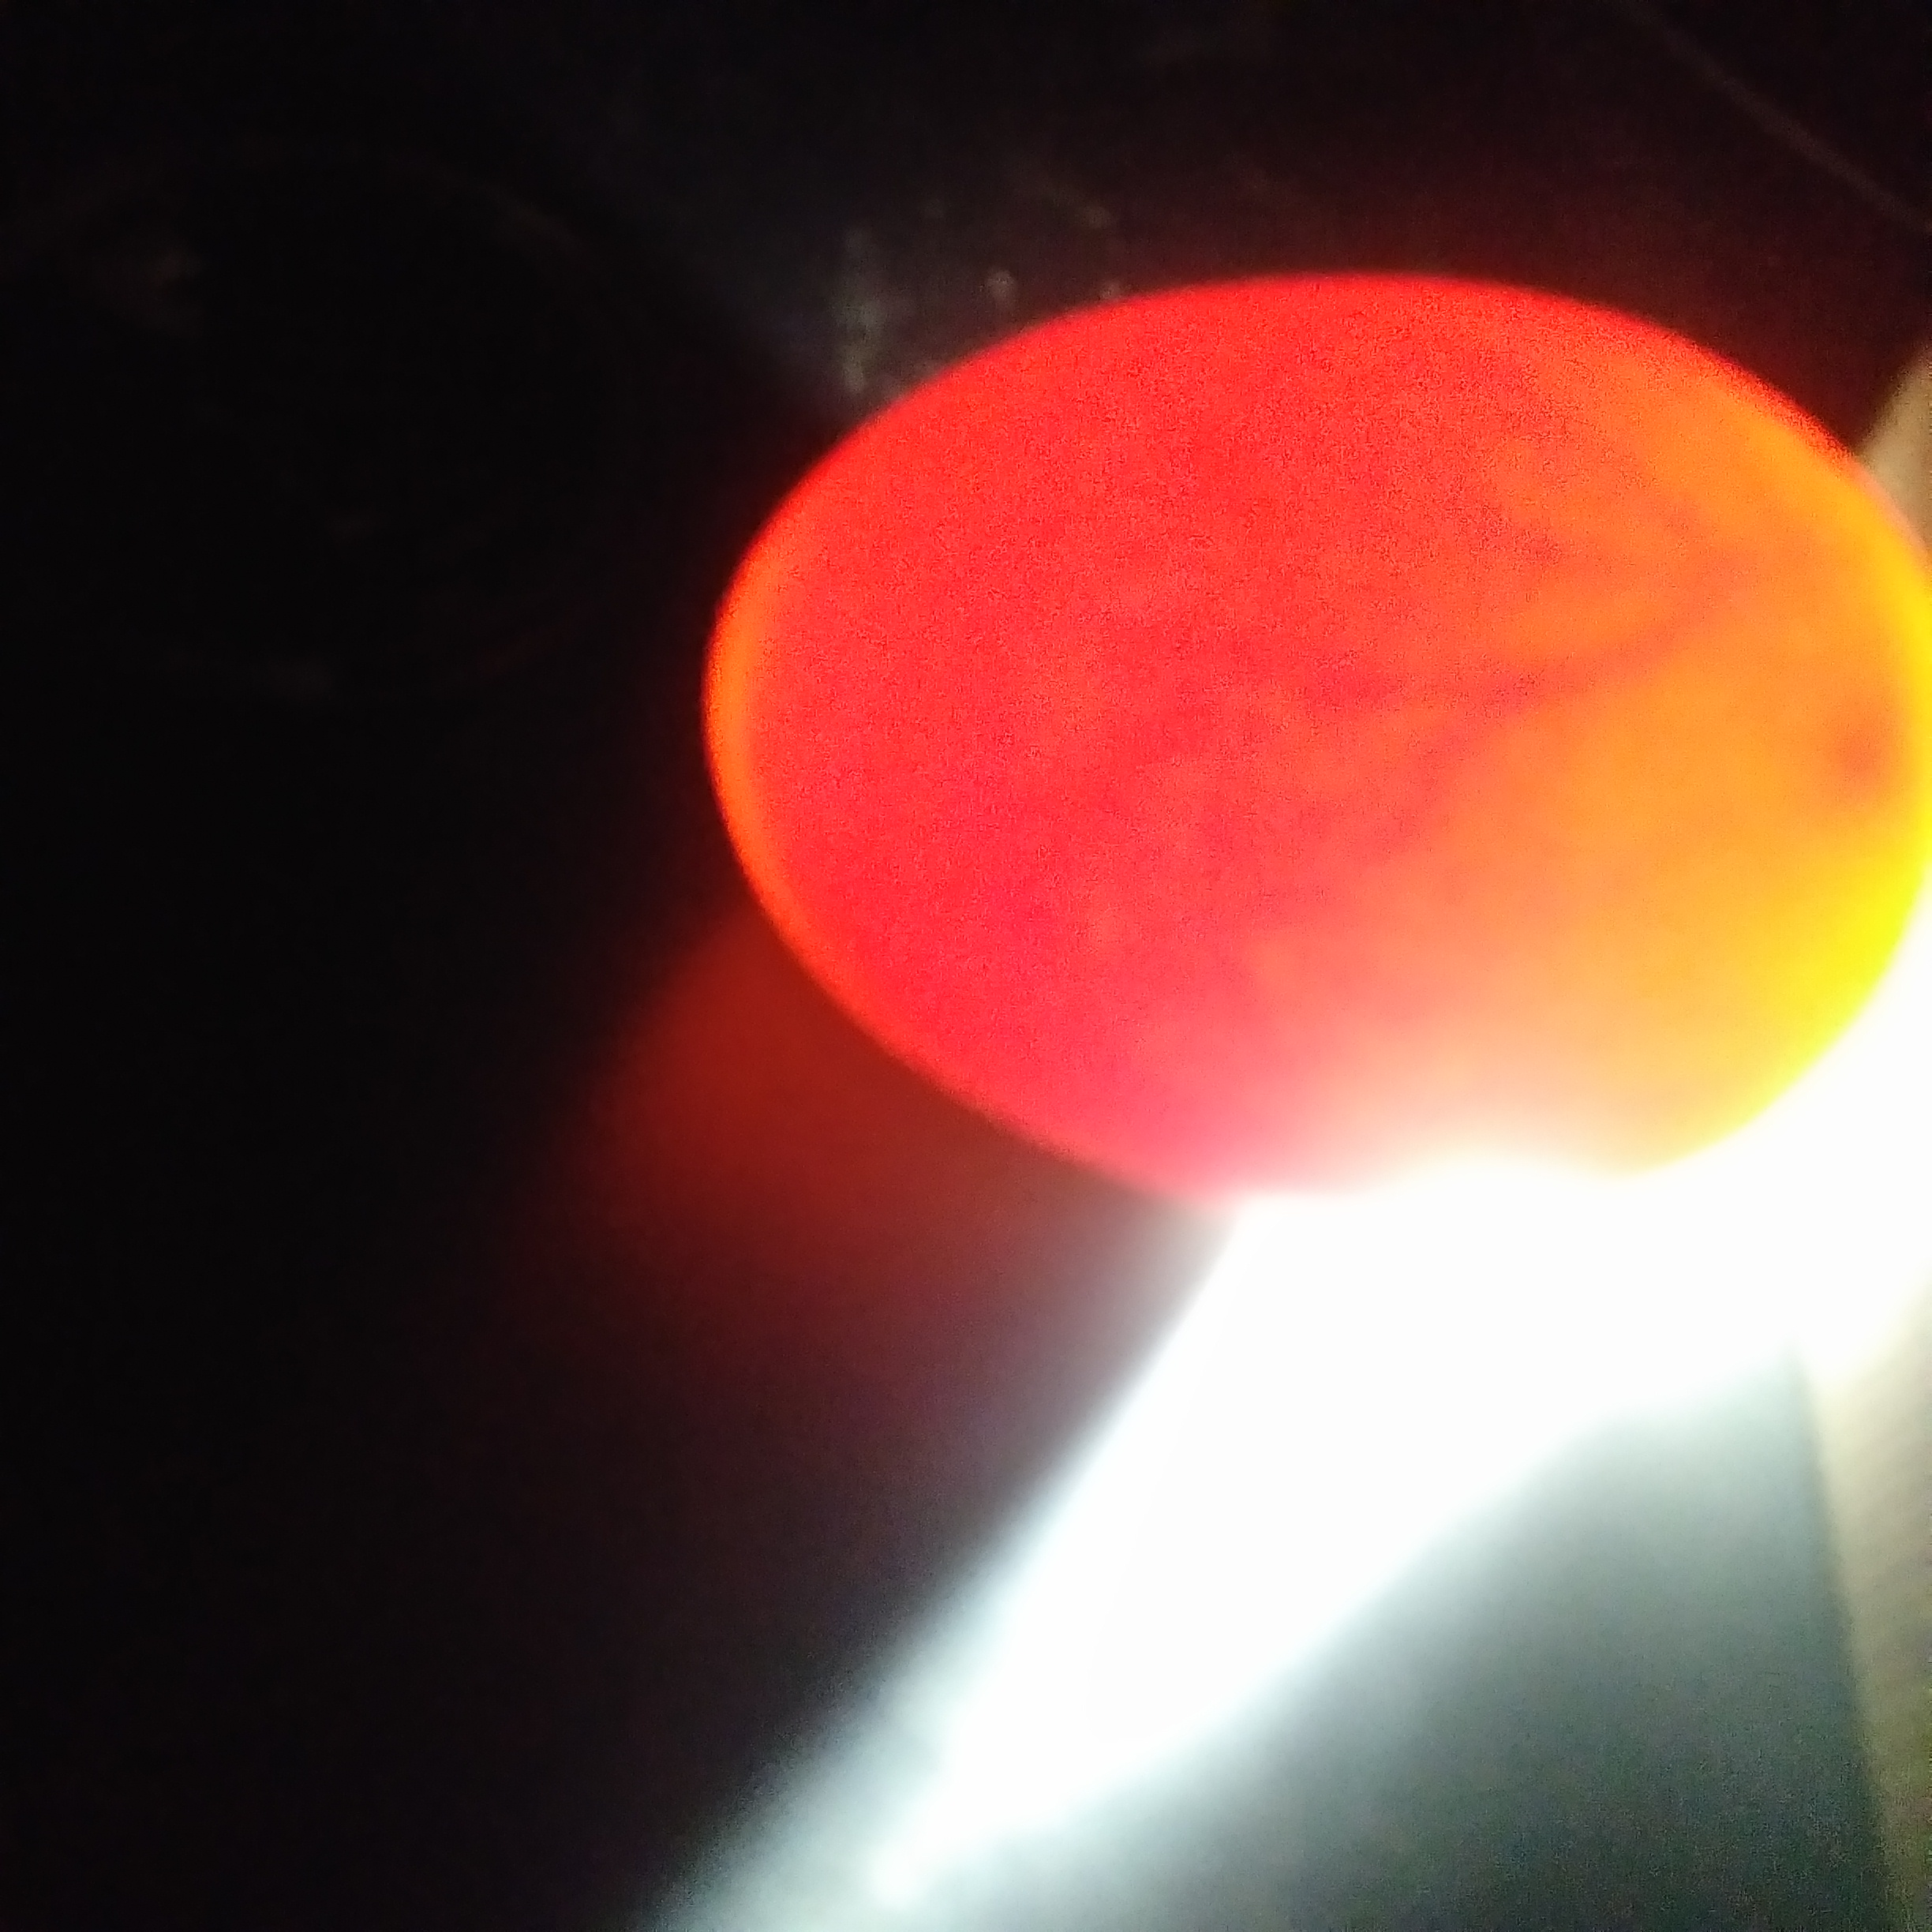bloodcell: (1364, 552, 1778, 816)
embryo: (1854, 671, 1911, 828)
